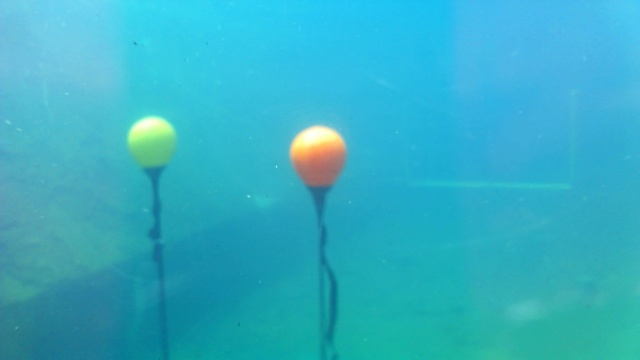buoy_red: (289, 123, 347, 195)
